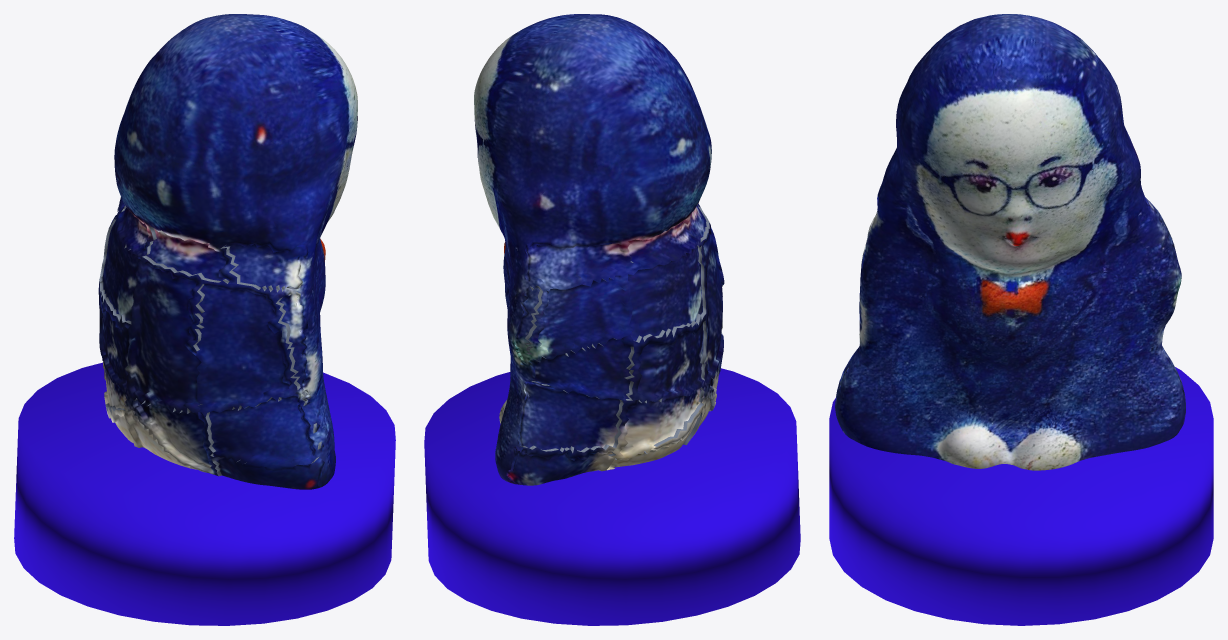
Rendered from asset3.glb.
The picture shows the model from 3 angles, left to right: view 1: azimuth 30°, elevation 25°; view 2: azimuth 150°, elevation 25°; view 3: azimuth 270°, elevation 25°; orthographic projection. The views are drawn at different scales.
Parts seen in each view (by area): view 1: tripo_node_89c23f10-9799-4dfb-abb7-9379c2aad712, 円柱; view 2: tripo_node_89c23f10-9799-4dfb-abb7-9379c2aad712, 円柱; view 3: tripo_node_89c23f10-9799-4dfb-abb7-9379c2aad712, 円柱.
Boxes of the visible parts, box(x1,y1,x2,y2) form: tripo_node_89c23f10-9799-4dfb-abb7-9379c2aad712: box(98, 14, 357, 489); 円柱: box(14, 362, 395, 625); tripo_node_89c23f10-9799-4dfb-abb7-9379c2aad712: box(474, 14, 724, 485); 円柱: box(424, 368, 800, 625); tripo_node_89c23f10-9799-4dfb-abb7-9379c2aad712: box(835, 14, 1185, 470); 円柱: box(829, 367, 1213, 625).
Bounding box in the file's own units: 3.46 × 5.28 × 3.41.
2 materials, 1 textured.
